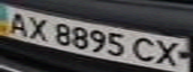5: (106, 29, 130, 58)
8: (48, 20, 75, 47), (69, 24, 90, 52)
9: (87, 27, 109, 54)
A: (0, 9, 33, 37)
C: (130, 34, 160, 64)
X: (151, 38, 187, 70), (24, 14, 54, 43)
